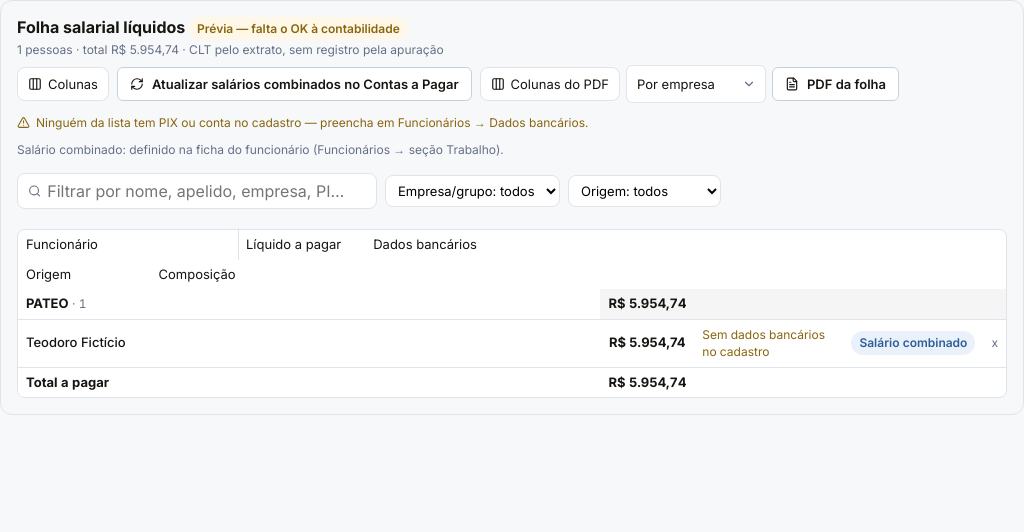
Folha de líquidos — atualizar salários combinados › clicar atualiza e mostra quem mudou, os pagos ignorados e os avisos
Click the button "Atualizar salários combinados no Contas a Pagar" at (294, 84), box [117,67,472,101]
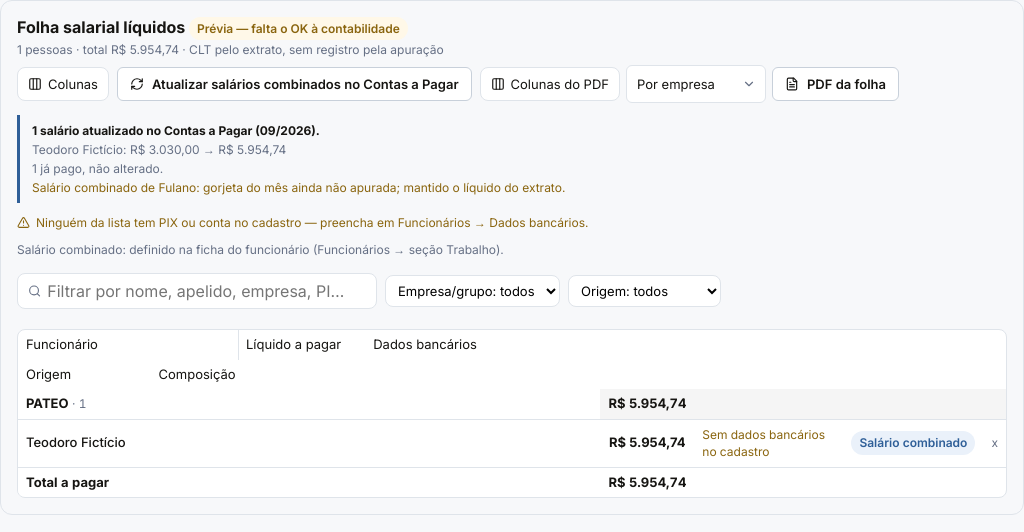
Check: the text "1 salário atualizado" shows "1 já pago, não alterado", box [32,161,160,176]
Check: the text "1 salário atualizado" shows "gorjeta do mês ainda não apurada", box [32,180,565,195]
